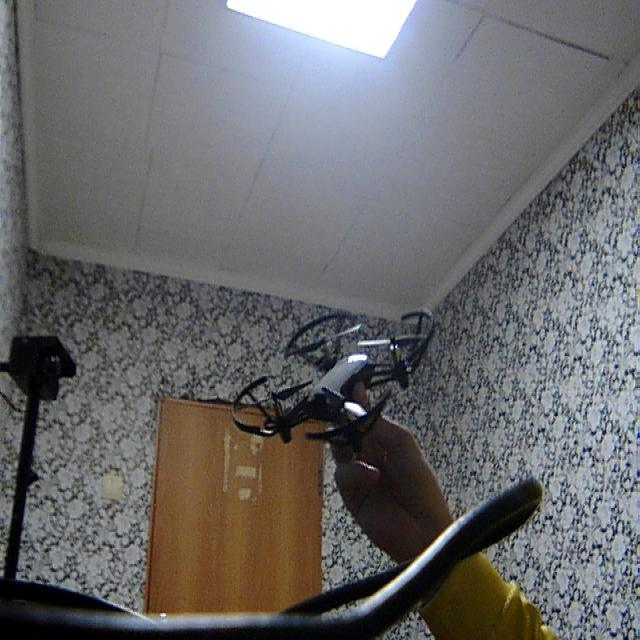drone: (231, 306, 439, 464)
